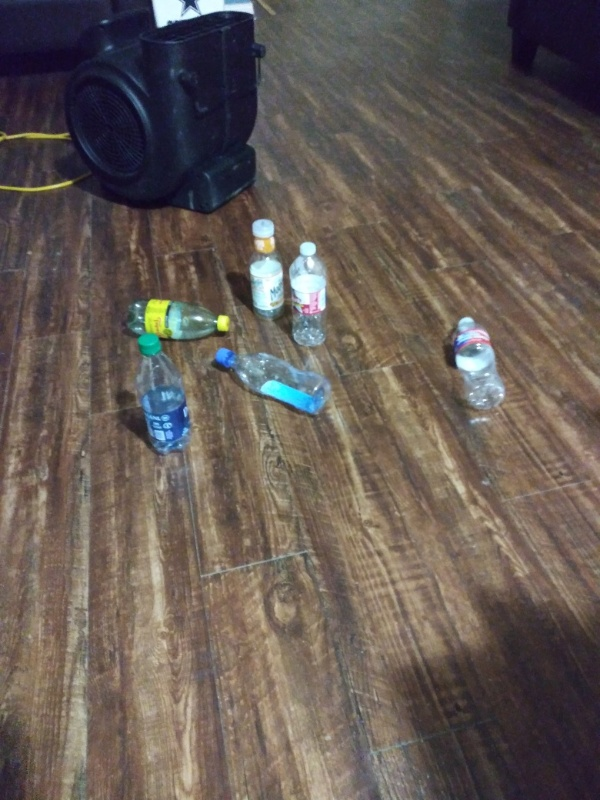bottle: (209, 345, 334, 421), (125, 329, 193, 459), (445, 311, 506, 411), (116, 297, 235, 347), (285, 238, 336, 349), (239, 216, 291, 319)
